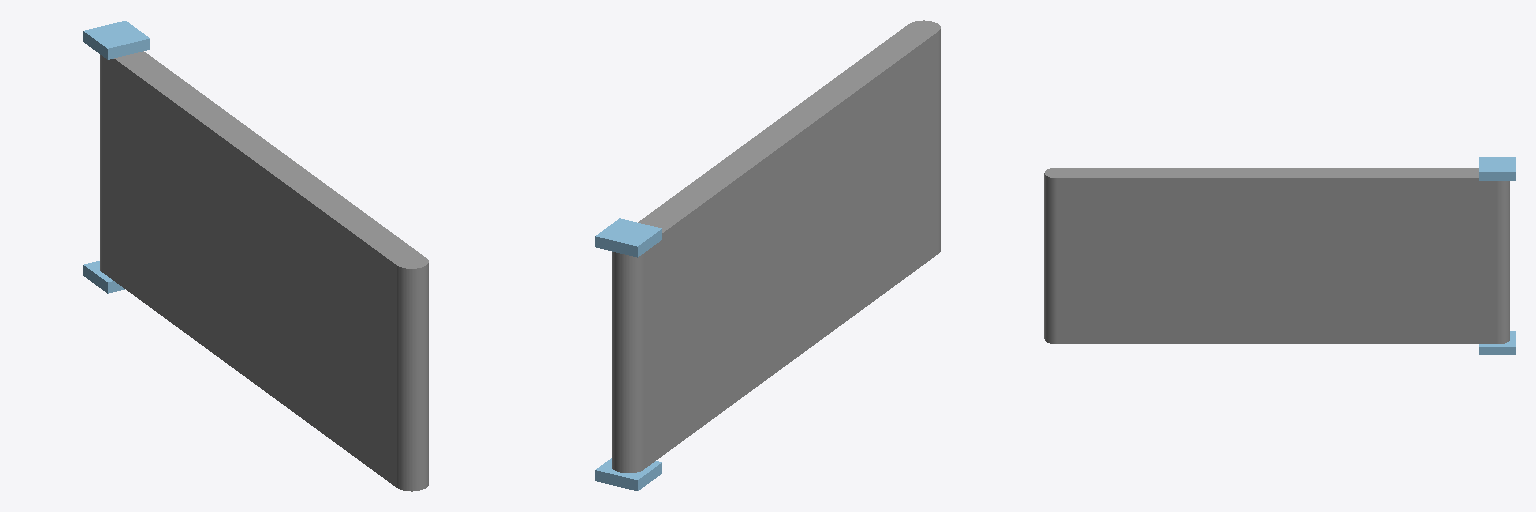
robot.urdf — onshape:
<robot name="onshape">
<link name="base_link">
<visual>
<origin xyz="4.336808689942017736e-19 -1.1384122811097796557e-18 0" rpy="0 -0 0" />
<geometry>
<mesh filename="package://urdf/kicker/kicker_base.stl"/>
</geometry>
<material name="kicker_base_material">
<color rgba="0.61568627450980395466 0.81176470588235294379 0.92941176470588238168 1.0"/>
</material>
</visual>
<collision>
<origin xyz="4.336808689942017736e-19 -1.1384122811097796557e-18 0" rpy="0 -0 0" />
<geometry>
<mesh filename="package://urdf/kicker/kicker_base.stl"/>
</geometry>
</collision>
<inertial>
<origin xyz="0 0 0" rpy="0 0 0"/>
<mass value="0" />
<inertia ixx="0" ixy="0"  ixz="0" iyy="0" iyz="0" izz="0" />
</inertial>
</link>

<link name="kicker_link">
<visual>
<origin xyz="0 1.530808498934191586e-18 0.025000000000000001388" rpy="3.141592653589793116 -0 0" />
<geometry>
<mesh filename="package://urdf/kicker/kicker_arm.stl"/>
</geometry>
<material name="kicker_arm_material">
<color rgba="0.64705882352941179736 0.64705882352941179736 0.64705882352941179736 1.0"/>
</material>
</visual>
<collision>
<origin xyz="0 1.530808498934191586e-18 0.025000000000000001388" rpy="3.141592653589793116 -0 0" />
<geometry>
<mesh filename="package://urdf/kicker/kicker_arm.stl"/>
</geometry>
</collision>
<inertial>
<origin xyz="0 0 0" rpy="0 0 0"/>
<mass value="0" />
<inertia ixx="0" ixy="0"  ixz="0" iyy="0" iyz="0" izz="0" />
</inertial>
</link>

<joint name="kicker_joint" type="revolute">
<origin xyz="4.336808689942017736e-19 3.9239621782441154511e-19 0.025000000000000001388" rpy="3.141592653589793116 -0 0" />
<parent link="base_link" />
<child link="kicker_link" />
<axis xyz="0 0 1"/>
<limit effort="1" velocity="20" lower="0" upper="1.0471975511965976313"/>
<joint_properties friction="0.0"/>
</joint>


</robot>

--- What the picture shows (computed from the rendered views, not written in the file) ---
3 views of the same robot in one strip: view 1: azimuth 30°, elevation 25°; view 2: azimuth 150°, elevation 25°; view 3: azimuth 270°, elevation 25° (orthographic).
Model onshape with 2 links and 1 joints (1 revolute), rooted at base_link, posed all joints at 0.
Links seen in each view (by area): view 1: kicker_link, base_link; view 2: kicker_link, base_link; view 3: kicker_link, base_link.
Link boxes in pixels (left/top/right/bottom): kicker_link: left=100, top=51, right=428, bottom=491; base_link: left=83, top=21, right=149, bottom=293; kicker_link: left=612, top=20, right=940, bottom=472; base_link: left=595, top=218, right=661, bottom=490; kicker_link: left=1044, top=168, right=1509, bottom=343; base_link: left=1479, top=157, right=1515, bottom=354.
Bounding box of the posed robot: 0.1 × 1.28 × 0.55 m (x, y, z).
Meshes: 2 distinct files referenced, 2 mesh visuals loaded (2 binary STL).